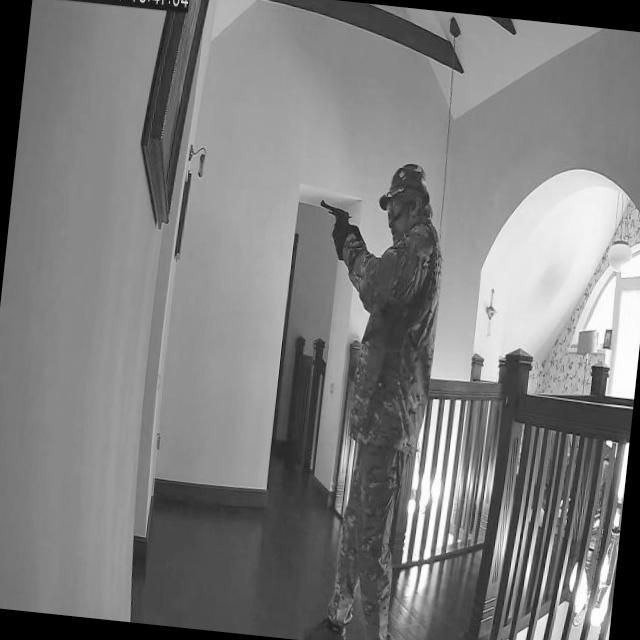gun: (314, 196, 352, 234)
person with a gun: (273, 151, 453, 640)
